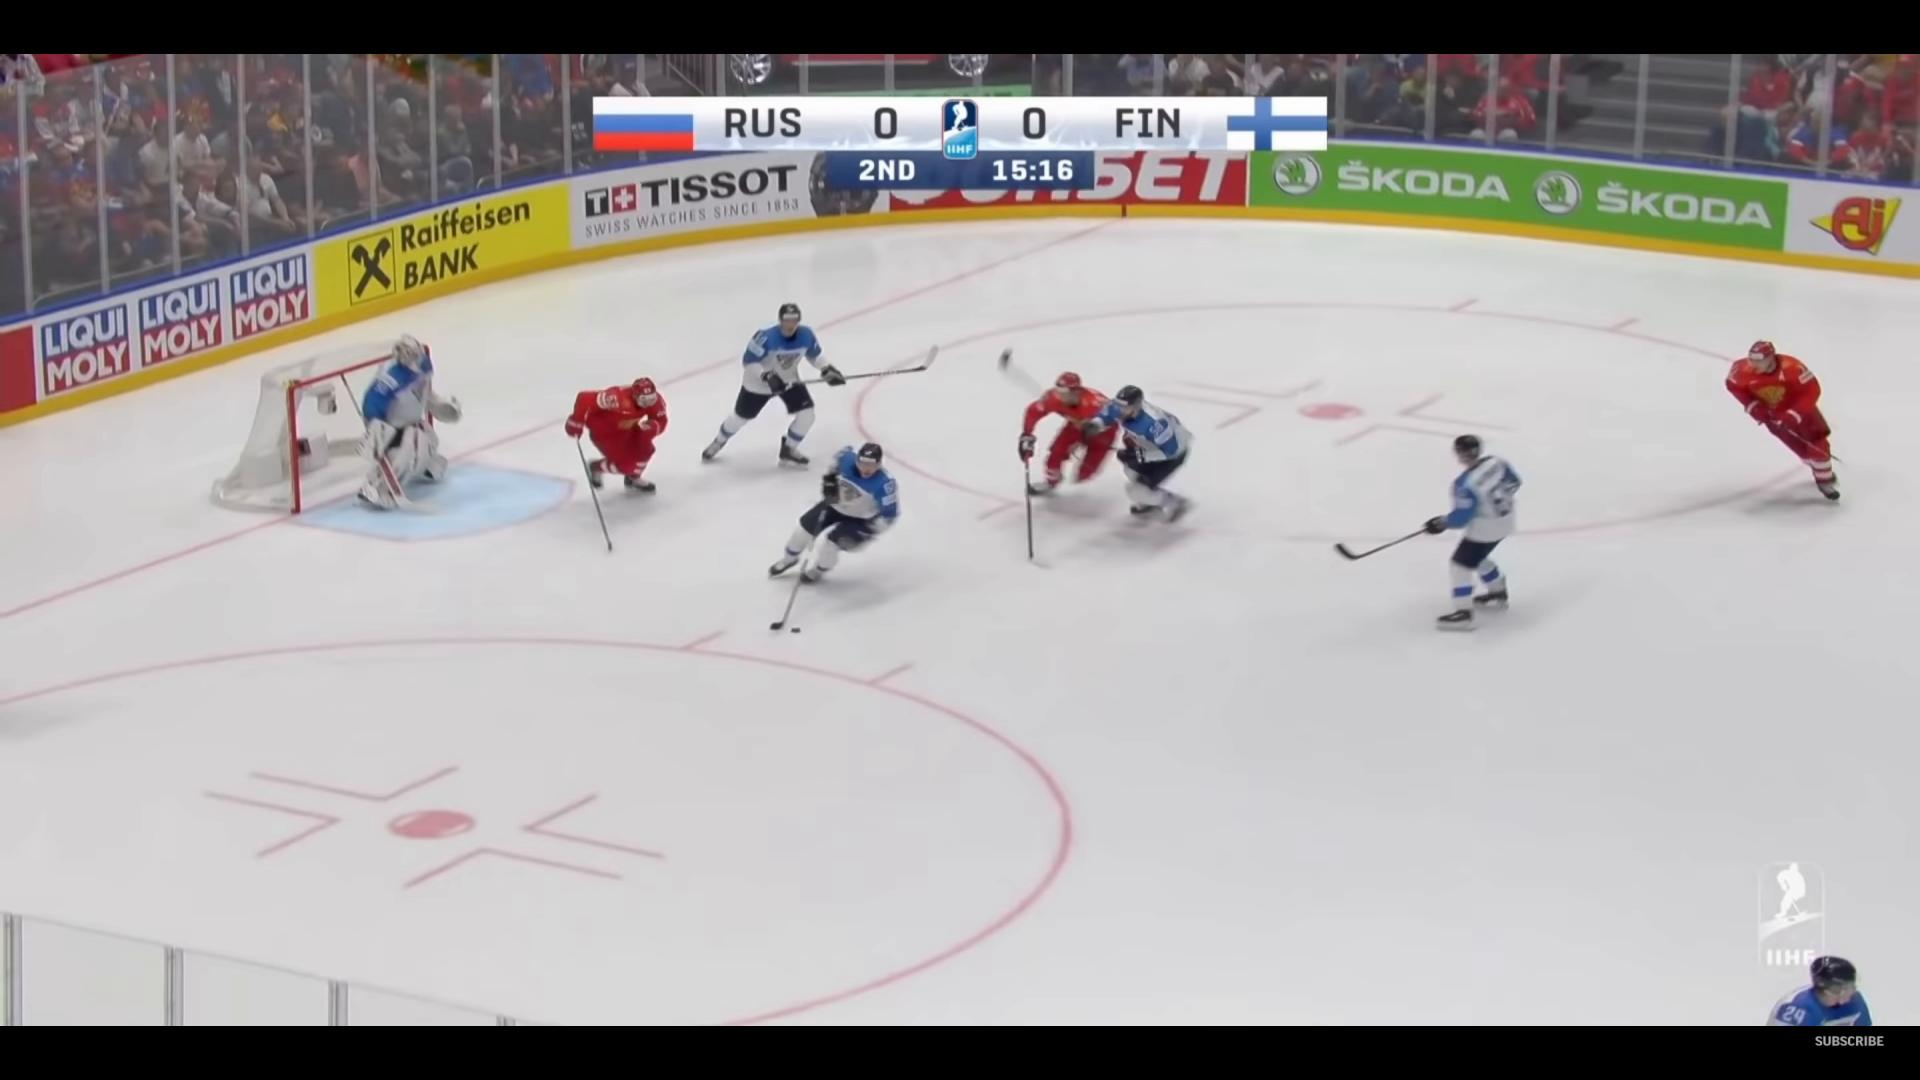puck: (789, 626, 800, 634)
